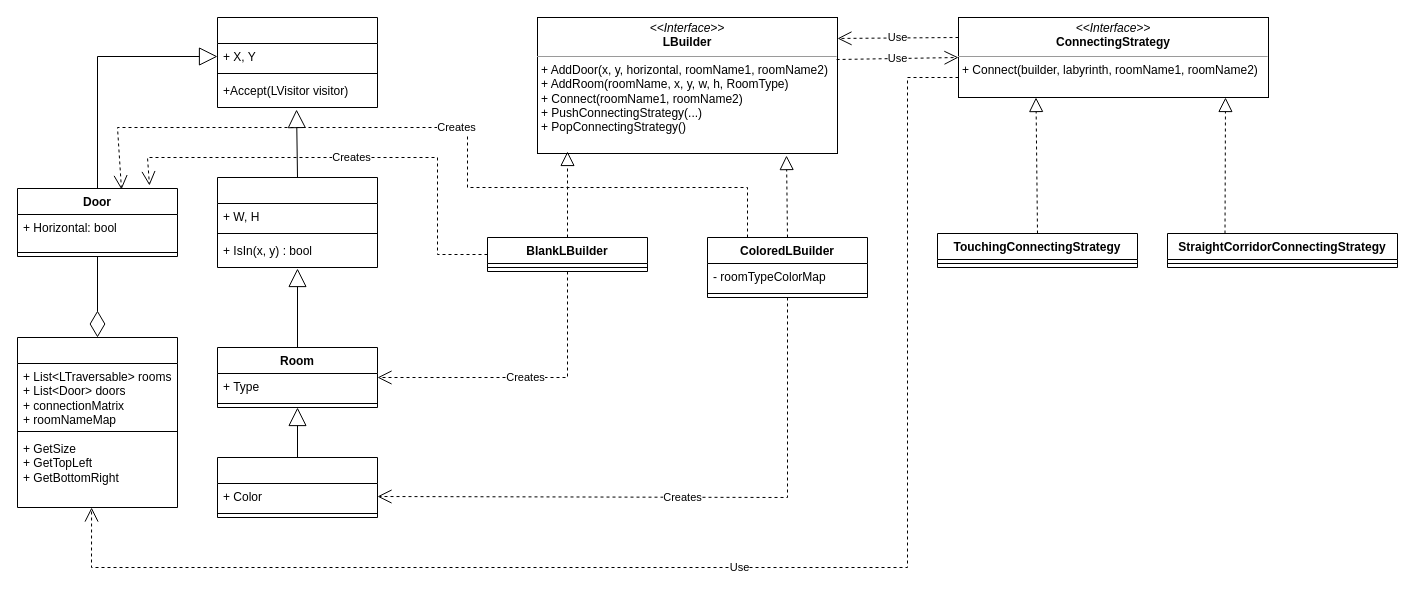
This 1415x599 diagram has some shape labels left out. The box of each missing label's shape, as (x1, y1, x2, y2) in pixels:
ColoredRoom: (216, 456, 378, 518)
Labyrinth: (16, 336, 178, 508)
LObject: (216, 16, 378, 108)
LTraversable: (216, 176, 378, 268)
